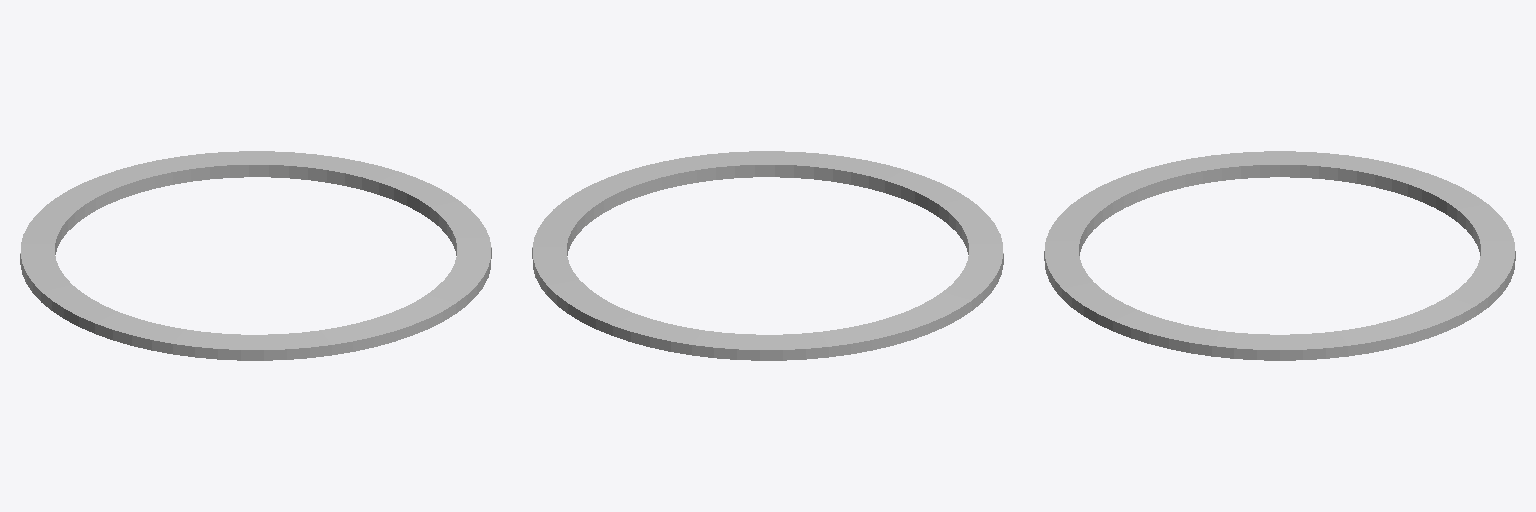
robot.urdf — hoop:
<?xml version="1.0"?>
<robot name="hoop">
    <link name="base_link">
    <visual>
        <geometry>
        <mesh filename="./hoop.obj" scale="0.15 0.15 0.15"/>
        </geometry>
        <material name="hoop_material">
        <color rgba="0.8 0.8 0.8 1"/>
        </material>
    </visual>
    </link>
</robot>

--- Facts derived from the render (not from the file) ---
The picture shows the robot from 3 angles, left to right: view 1: azimuth 30°, elevation 25°; view 2: azimuth 150°, elevation 25°; view 3: azimuth 270°, elevation 25°; orthographic projection.
Robot: hoop — 1 links, 0 joints (none); root link base_link; default pose: every joint at zero.
Links seen in each view (by area): view 1: base_link; view 2: base_link; view 3: base_link.
Boxes of the visible links, <box> form: base_link: <box>20,151,491,360</box>; base_link: <box>532,151,1003,360</box>; base_link: <box>1044,151,1515,360</box>.
Bounding box of the posed robot: 0.3398 × 0.3398 × 0.0101 m (x, y, z).
Meshes: 1 distinct files referenced, 1 mesh visuals loaded (1 OBJ).
